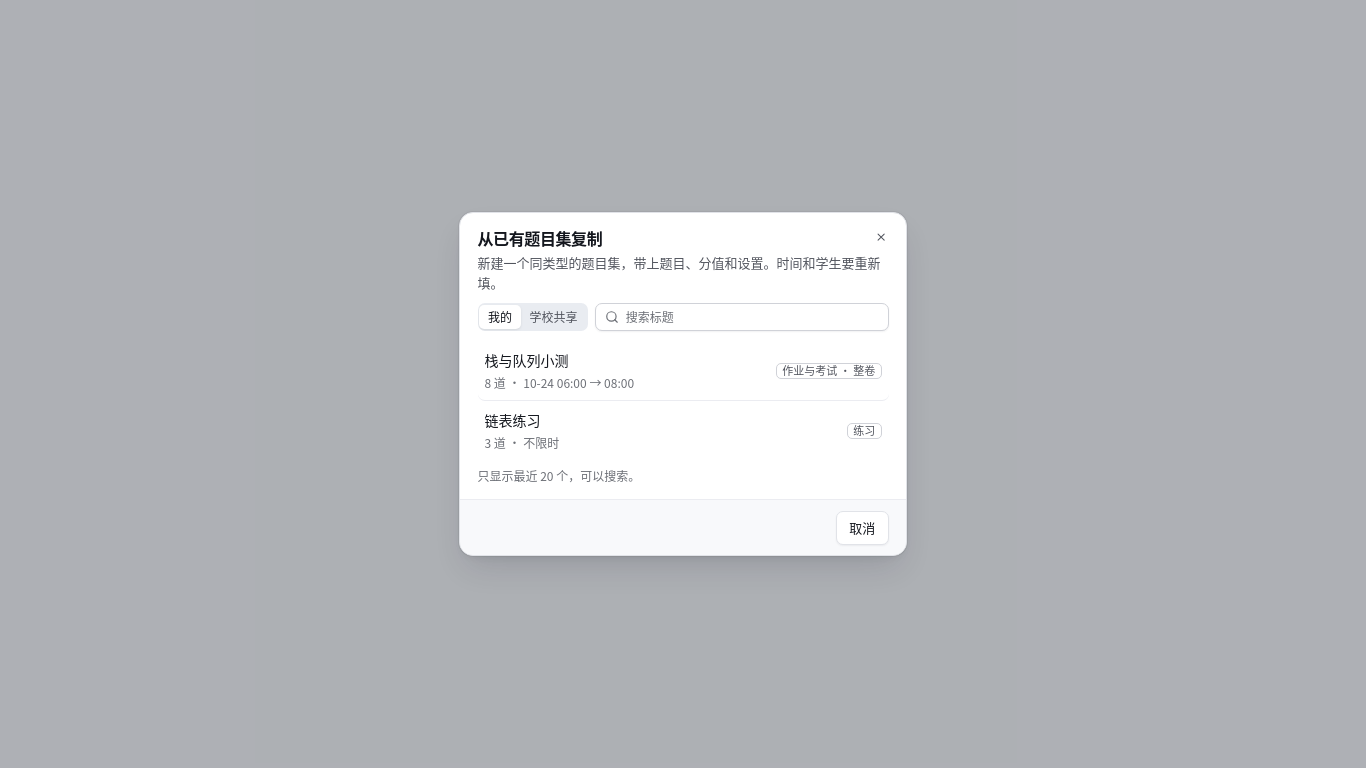
copy dialog › shows the sharer, problem count and time on a shared row
This screenshot has width=1366, height=768.
Click the tab "学校共享": (554, 317) [521, 305, 586, 329]
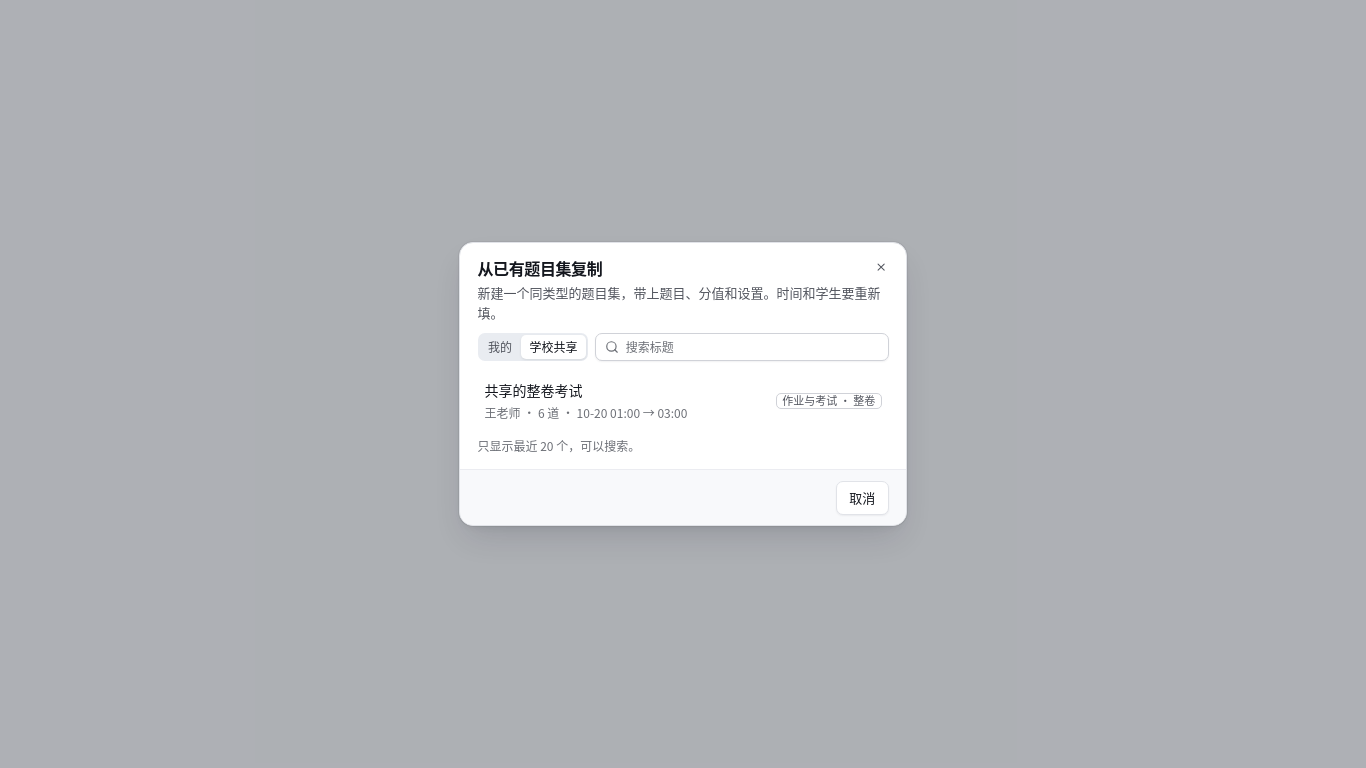
Now the text "共享的整卷考试" is shown, box [484, 380, 582, 400]
Now the link "栈与队列小测" is gone
